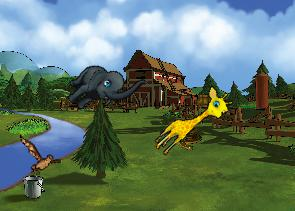eagle: (11, 134, 65, 180)
elephant: (59, 43, 148, 131)
giraffe: (150, 81, 236, 165)
